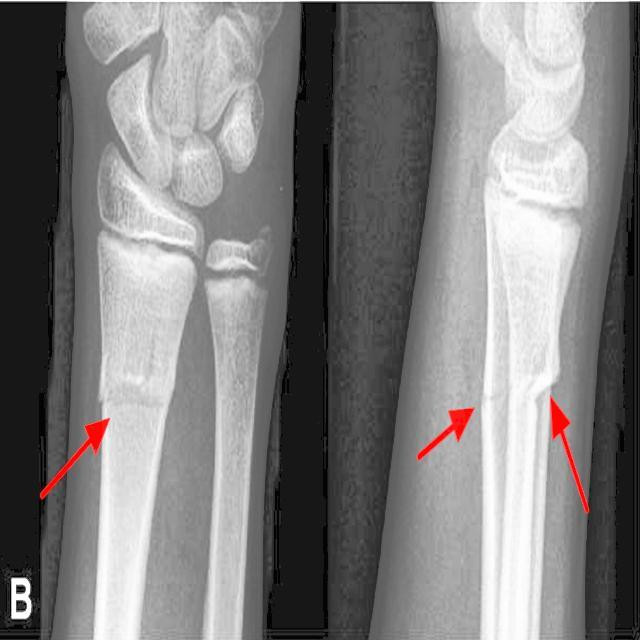GreenStick Fracture: (102, 376, 166, 424), (521, 367, 562, 410), (482, 380, 510, 412)
